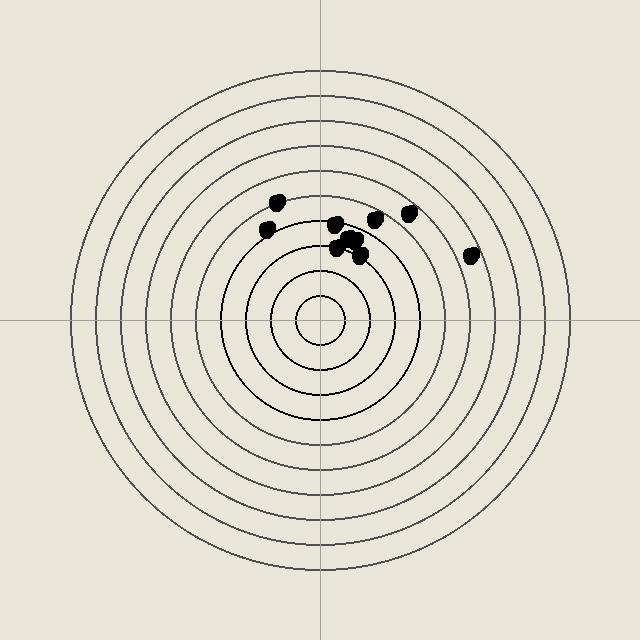horizontal_scatter: (256, 219, 276, 239), (364, 209, 384, 229), (326, 237, 346, 257), (398, 203, 418, 223), (324, 214, 344, 234), (344, 230, 364, 250), (337, 228, 357, 248), (460, 245, 480, 265), (349, 245, 369, 265), (266, 192, 286, 212)
